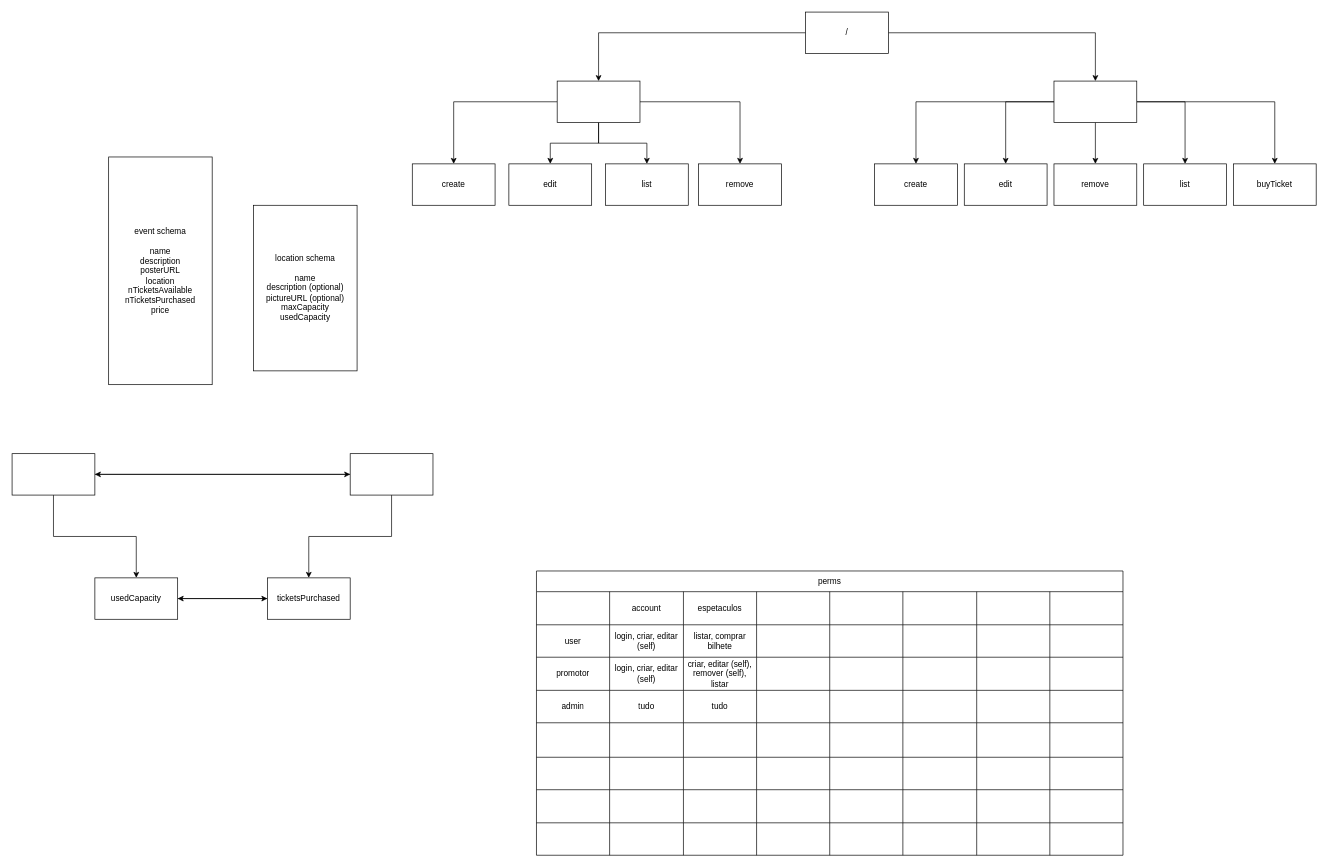
Image size: 1328x867. Some labels were removed from this diagram. The centre of each missing label's shape, as x and y in pixels:
event: (391,474)
events: (598,101)
location: (53,474)
locations: (1095,101)
